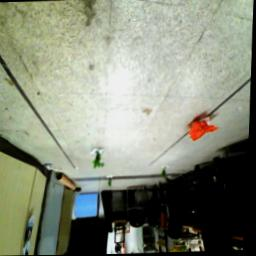herb: (94, 152, 109, 171), (165, 169, 170, 182)
wild: (190, 118, 223, 145)
